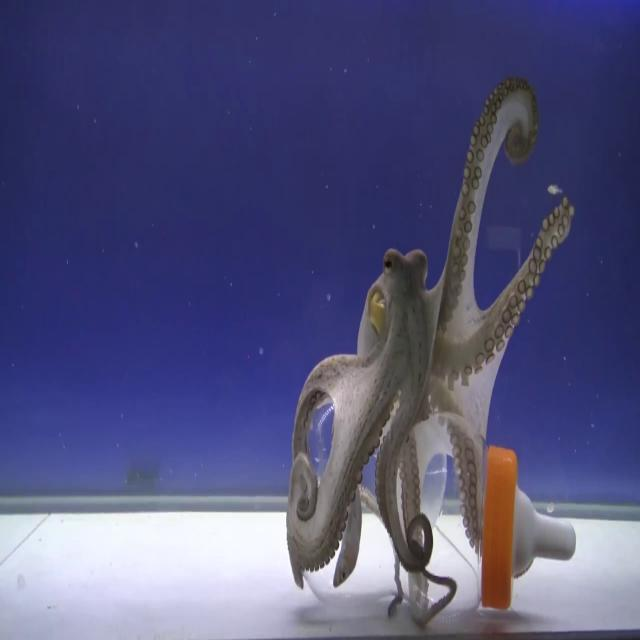octopus: (282, 70, 574, 640)
